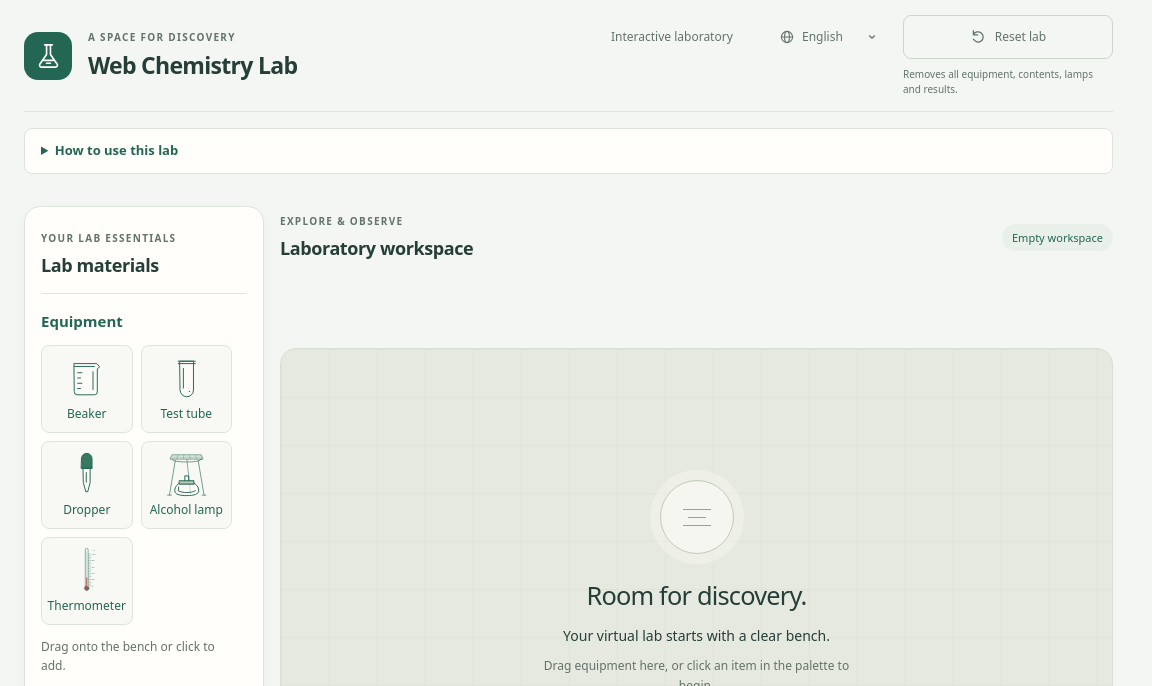
Test: contextual teaching copy › keeps Materials action guidance/search and unit explanations in Help (en)
The image size is (1152, 686).
Select "English" in the dropdown named "Language": (828, 36) [769, 14, 887, 58]
Click the button with aria-label "Add Beaker": (87, 388) [41, 344, 132, 432]
(page scrolled)
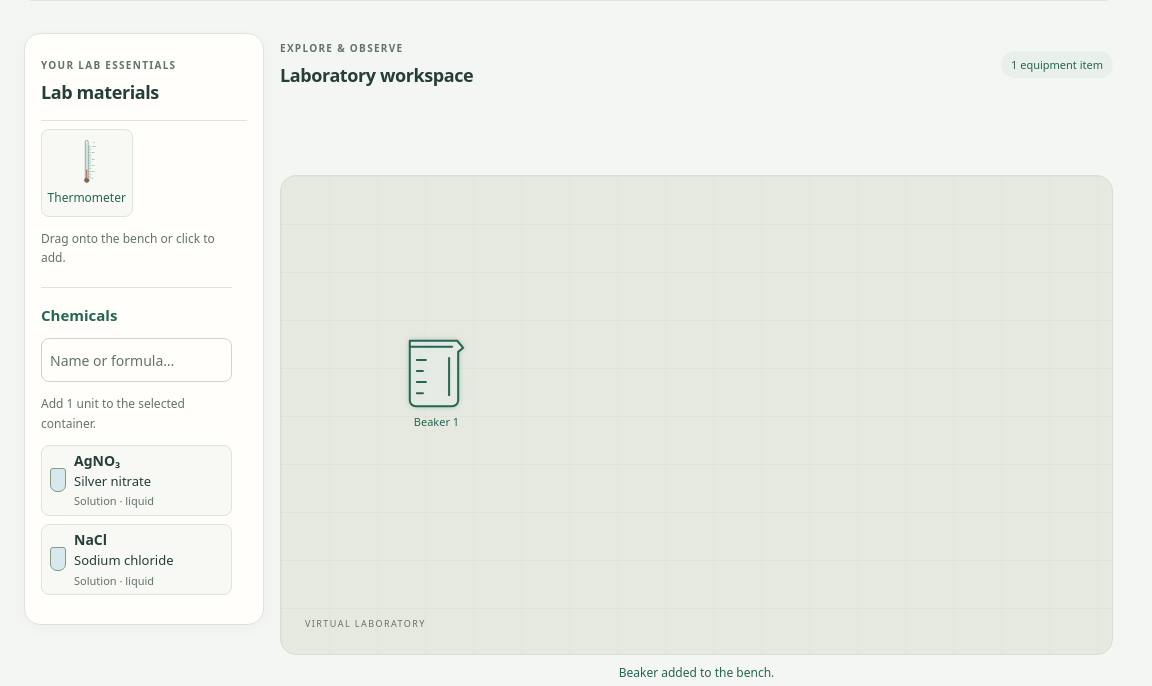
Check: the text "Add 1 unit to the selected container." is shown, box [41, 395, 185, 432]
Check: the button with aria-label "Add Silver nitrate" is enabled, box [41, 445, 232, 516]
In the search field named "Search chemicals": (136, 360) [41, 338, 232, 382], type "AgNO3"
(page scrolled)
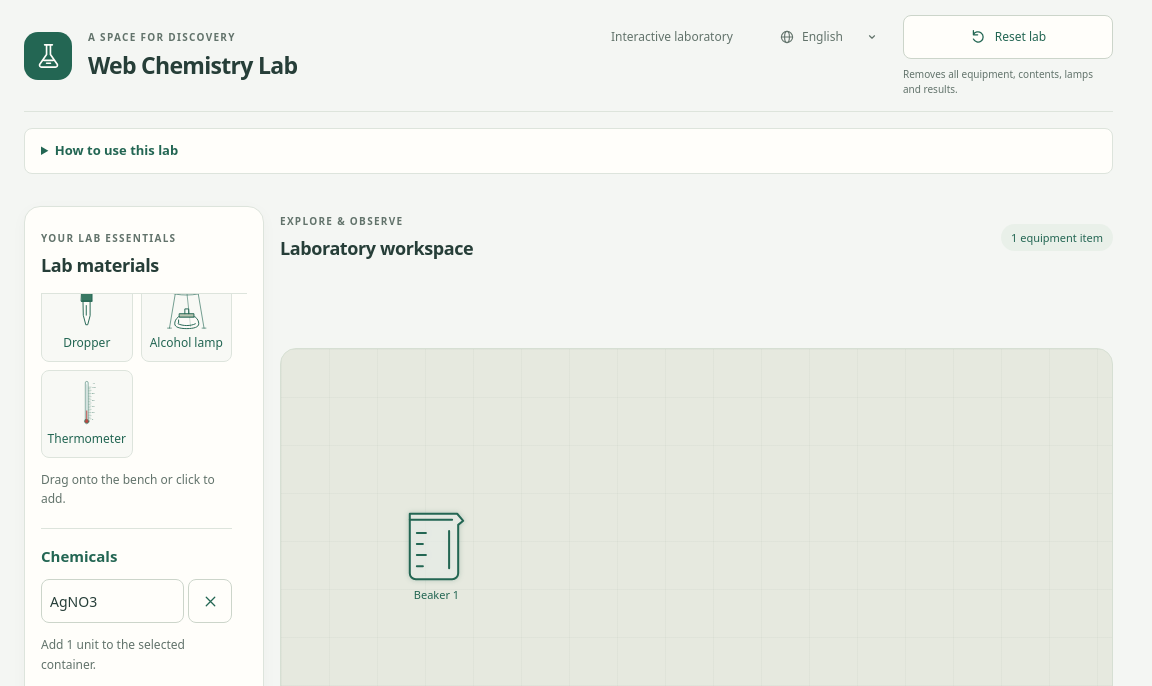
Click the heading "How to use this lab": (116, 150) [55, 141, 178, 159]
(page scrolled)
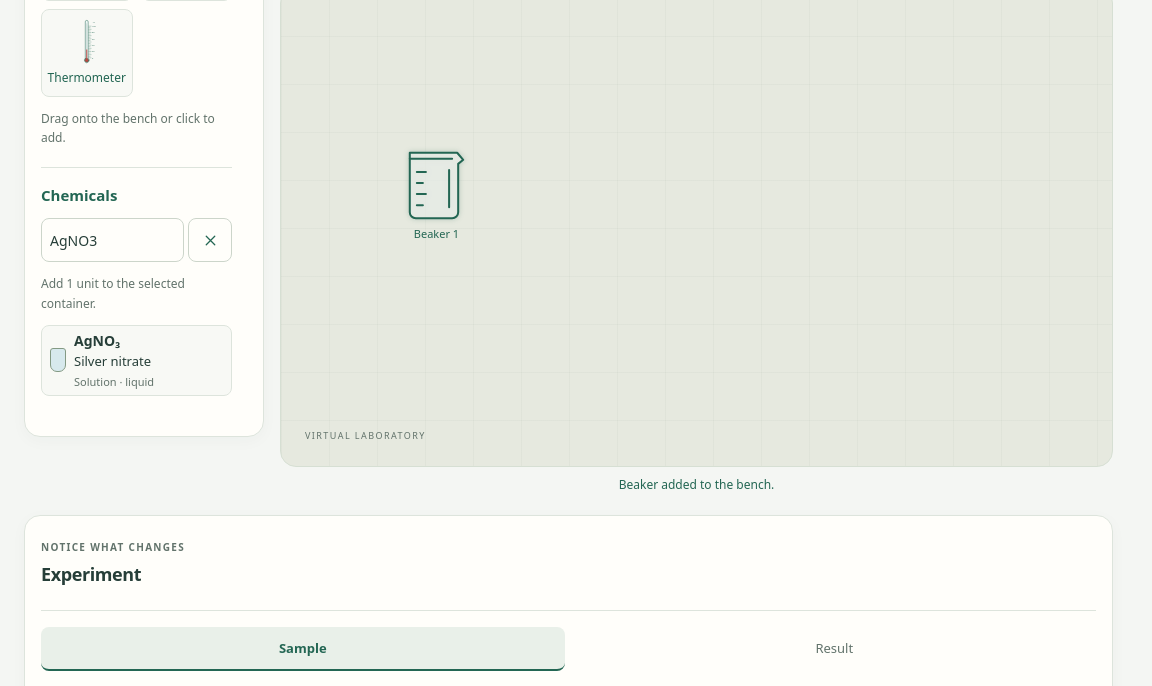
Click the button "AgNO₃ Silver nitrate Solution · liquid": (136, 360) [41, 325, 232, 396]
(page scrolled)
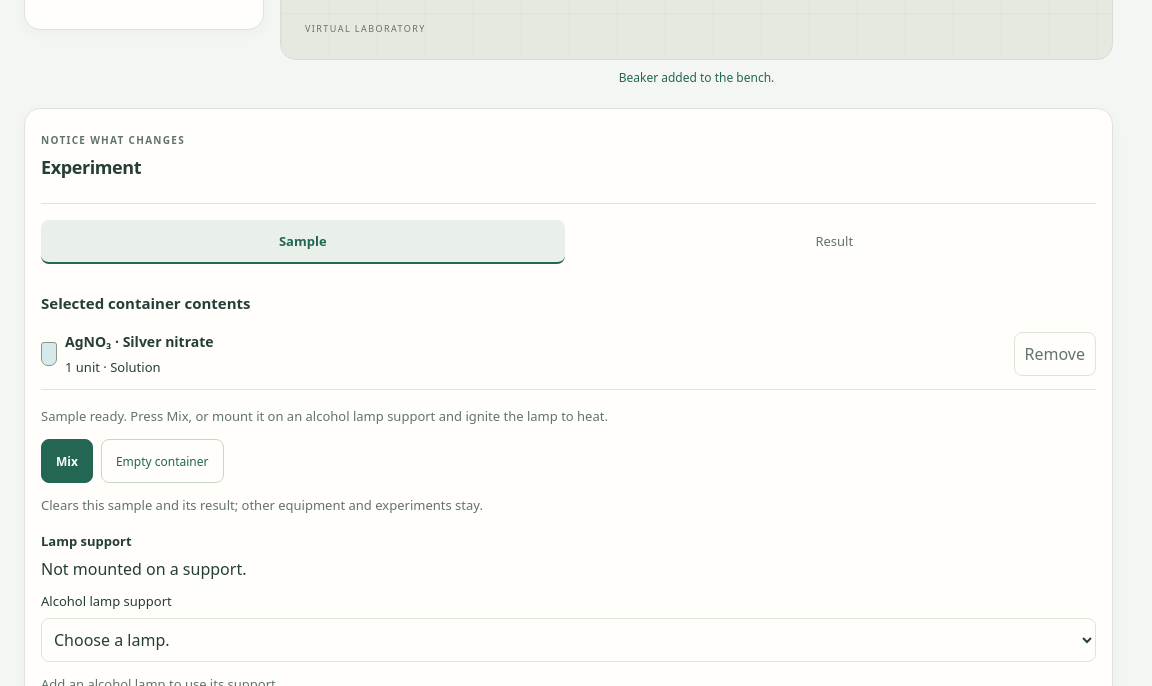
Check: the list named "Container contents" shows "AgNO₃ · Silver nitrate", box [41, 331, 1096, 390]
